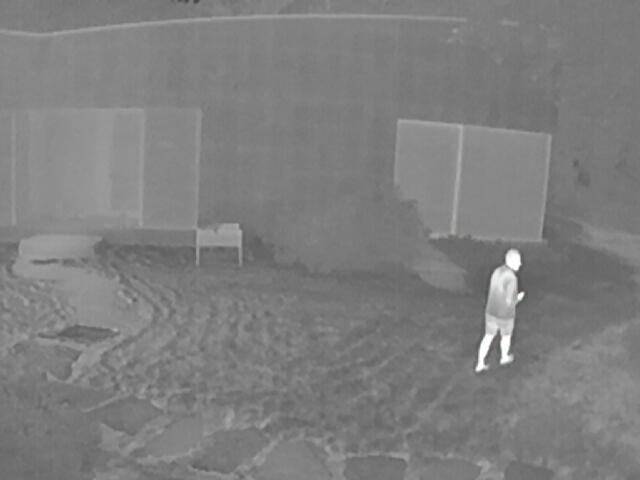person: (474, 250, 525, 372)
